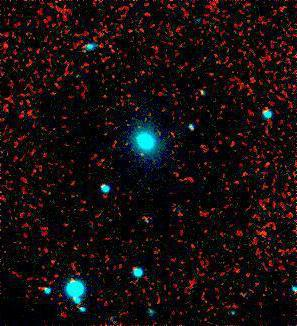star: (127, 138, 157, 168)
